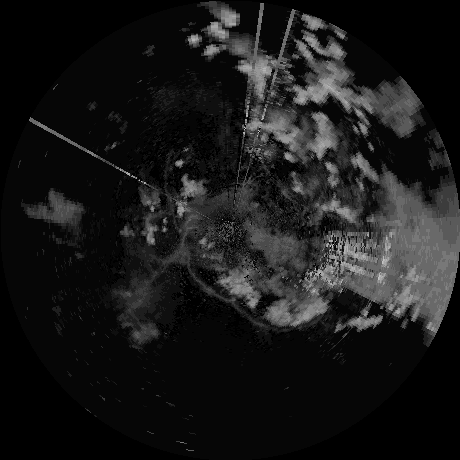frontgust: (182, 238, 233, 301), (233, 304, 296, 333), (162, 160, 182, 234)
